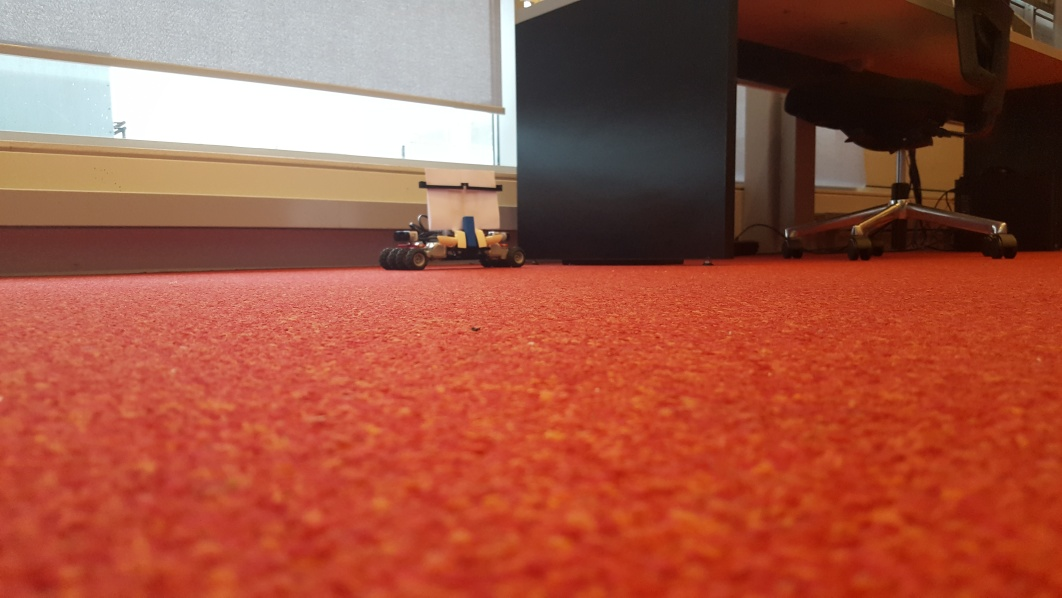car: (379, 172, 530, 269)
